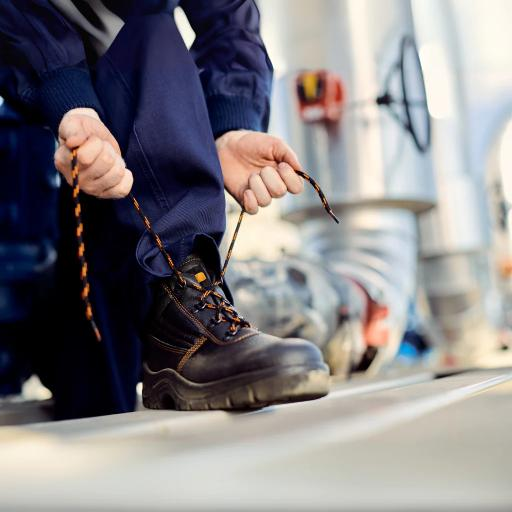safety_boots: (137, 279, 357, 396)
